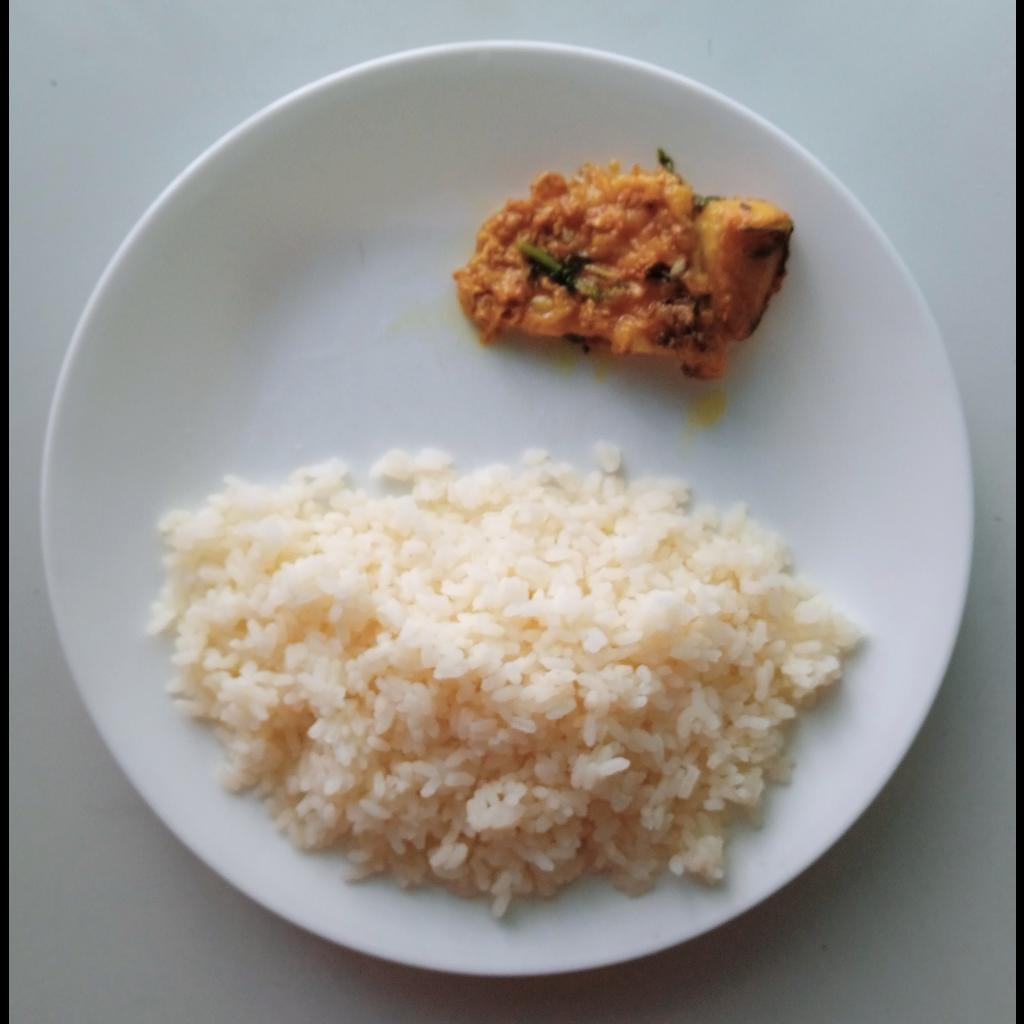fish: (458, 150, 795, 381)
rice: (142, 439, 863, 920)
